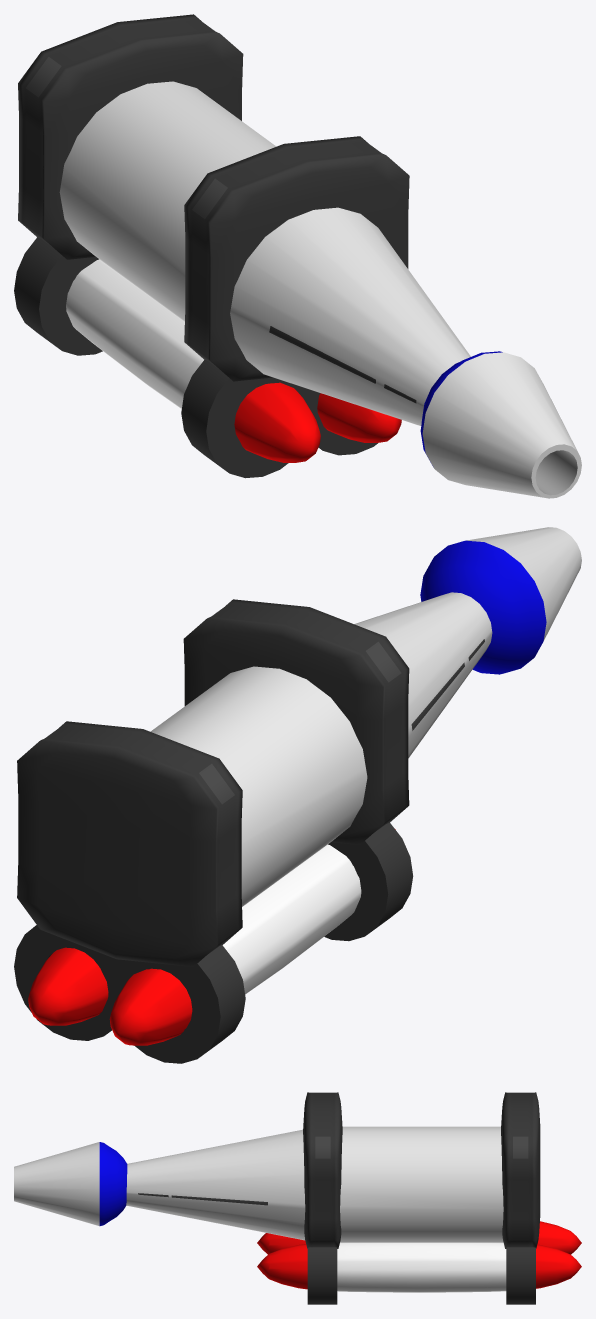
The model's file is レーザー.fbx.
3 renders of one model, top to bottom at view 1: azimuth 30°, elevation 25°; view 2: azimuth 150°, elevation 25°; view 3: azimuth 270°, elevation 25°, orthographic. The views are drawn at different scales.
Parts seen in each view (by area): view 1: polySurface11; view 2: polySurface11; view 3: polySurface11.
Part boxes in pixels (x1,y1,x2,y2): polySurface11: (14, 14, 581, 498); polySurface11: (14, 527, 581, 1063); polySurface11: (14, 1092, 581, 1304).
Bounding box in the file's own units: 21.75 × 30.45 × 87.17.
